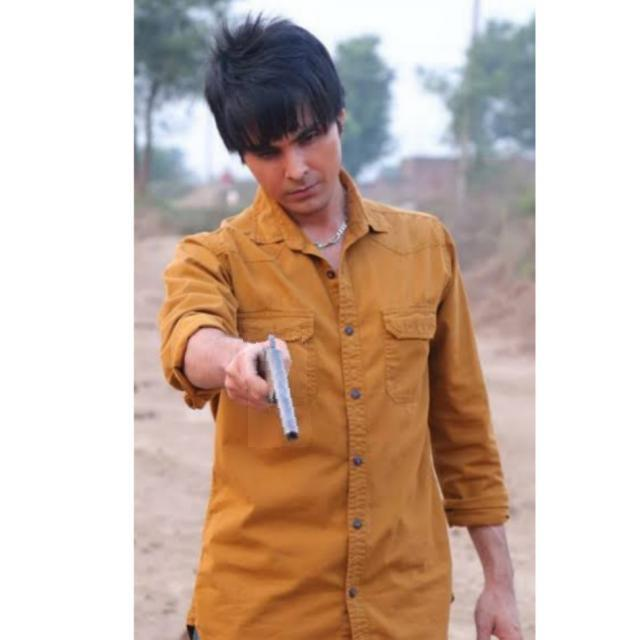handgun: (245, 328, 310, 449)
